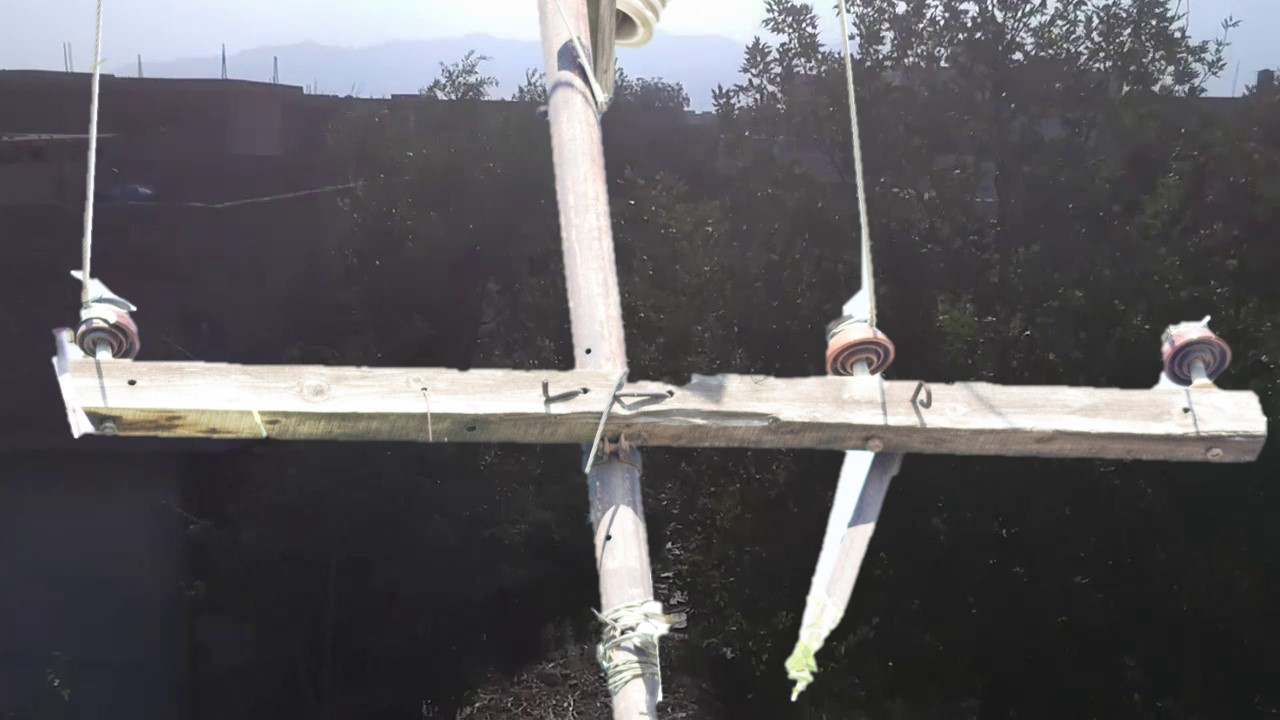defect_pin: (71, 291, 146, 365)
insulator_pin: (1153, 313, 1238, 386), (820, 312, 898, 378)
